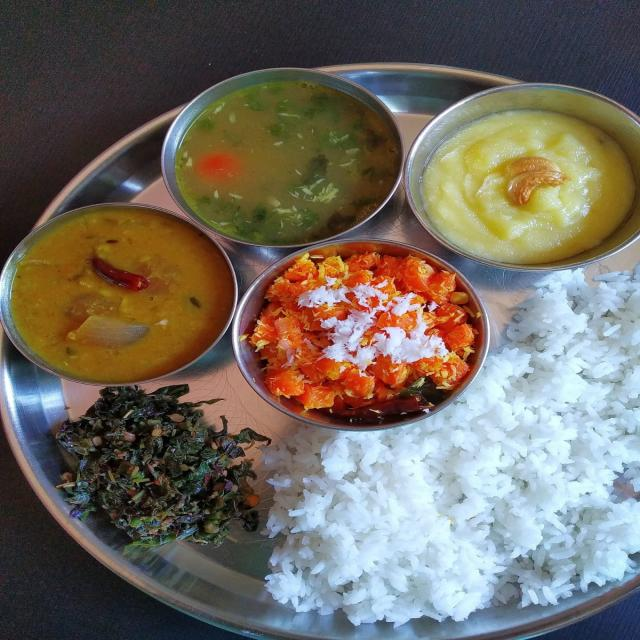veg meals: (0, 58, 640, 639)
